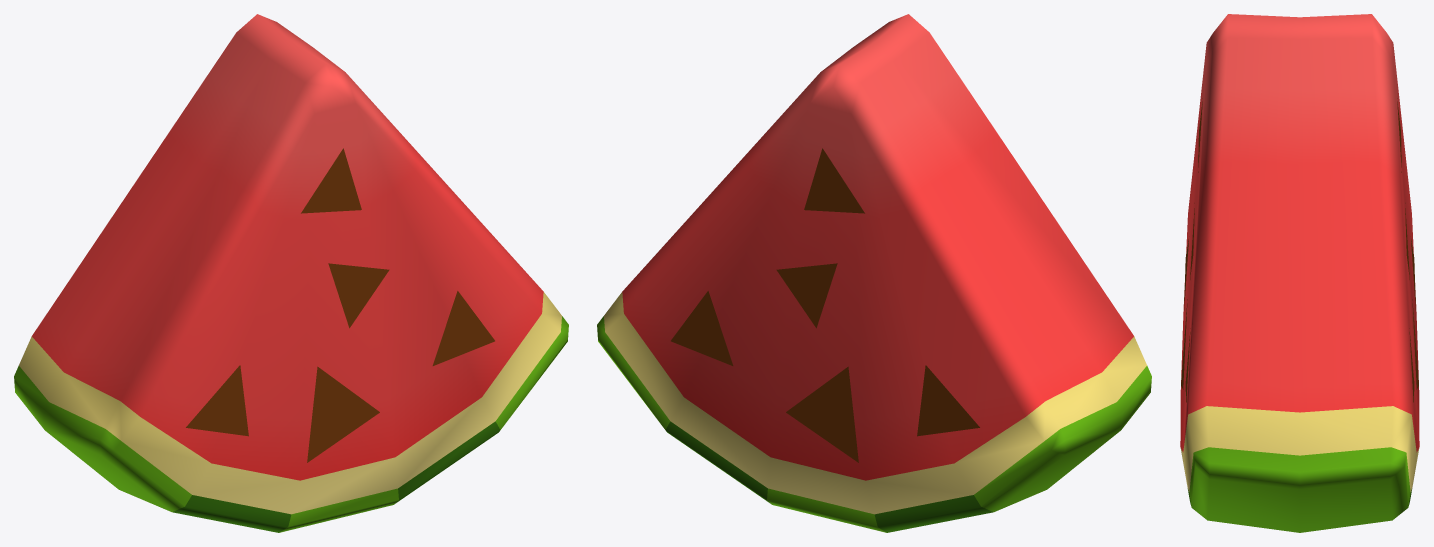
File: Watermelon.fbx
3 renders of one model, left to right at view 1: azimuth 30°, elevation 25°; view 2: azimuth 150°, elevation 25°; view 3: azimuth 270°, elevation 25°, orthographic. The views are drawn at different scales.
Visible parts, largest first — view 1: Watermelon; view 2: Watermelon; view 3: Watermelon.
Part boxes in pixels (x1=…): Watermelon: x1=14, y1=14, x2=568, y2=532; Watermelon: x1=597, y1=14, x2=1151, y2=532; Watermelon: x1=1180, y1=14, x2=1419, y2=532.
Bounding box in the file's own units: 2.25 × 1.98 × 0.8906.
